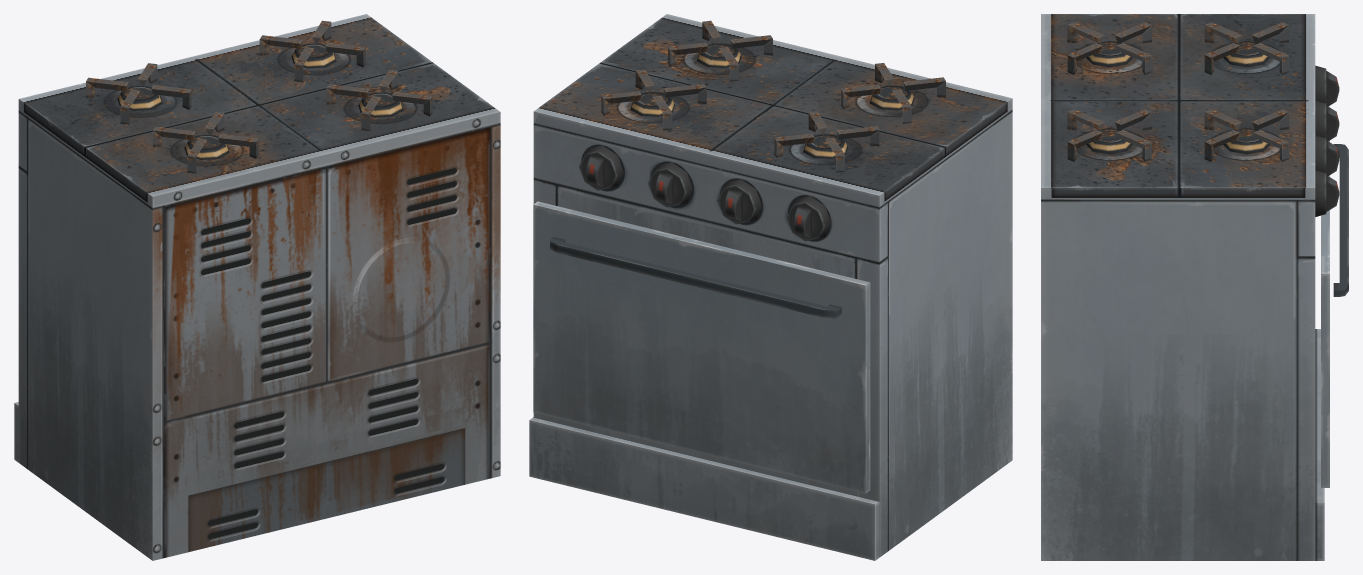
File: KTB0110016.fbx
3 renders of one model, left to right at view 1: azimuth 30°, elevation 25°; view 2: azimuth 150°, elevation 25°; view 3: azimuth 270°, elevation 25°, orthographic. The views are drawn at different scales.
Visible parts, largest first — view 1: smKTB0110016; view 2: smKTB0110016; view 3: smKTB0110016.
Part boxes in pixels (bbox=[...]): smKTB0110016: bbox=[14, 14, 500, 560]; smKTB0110016: bbox=[529, 14, 1012, 560]; smKTB0110016: bbox=[1041, 14, 1348, 560].
Bounding box in the file's own units: 90 × 94.16 × 67.32.
1 material, 1 textured.
